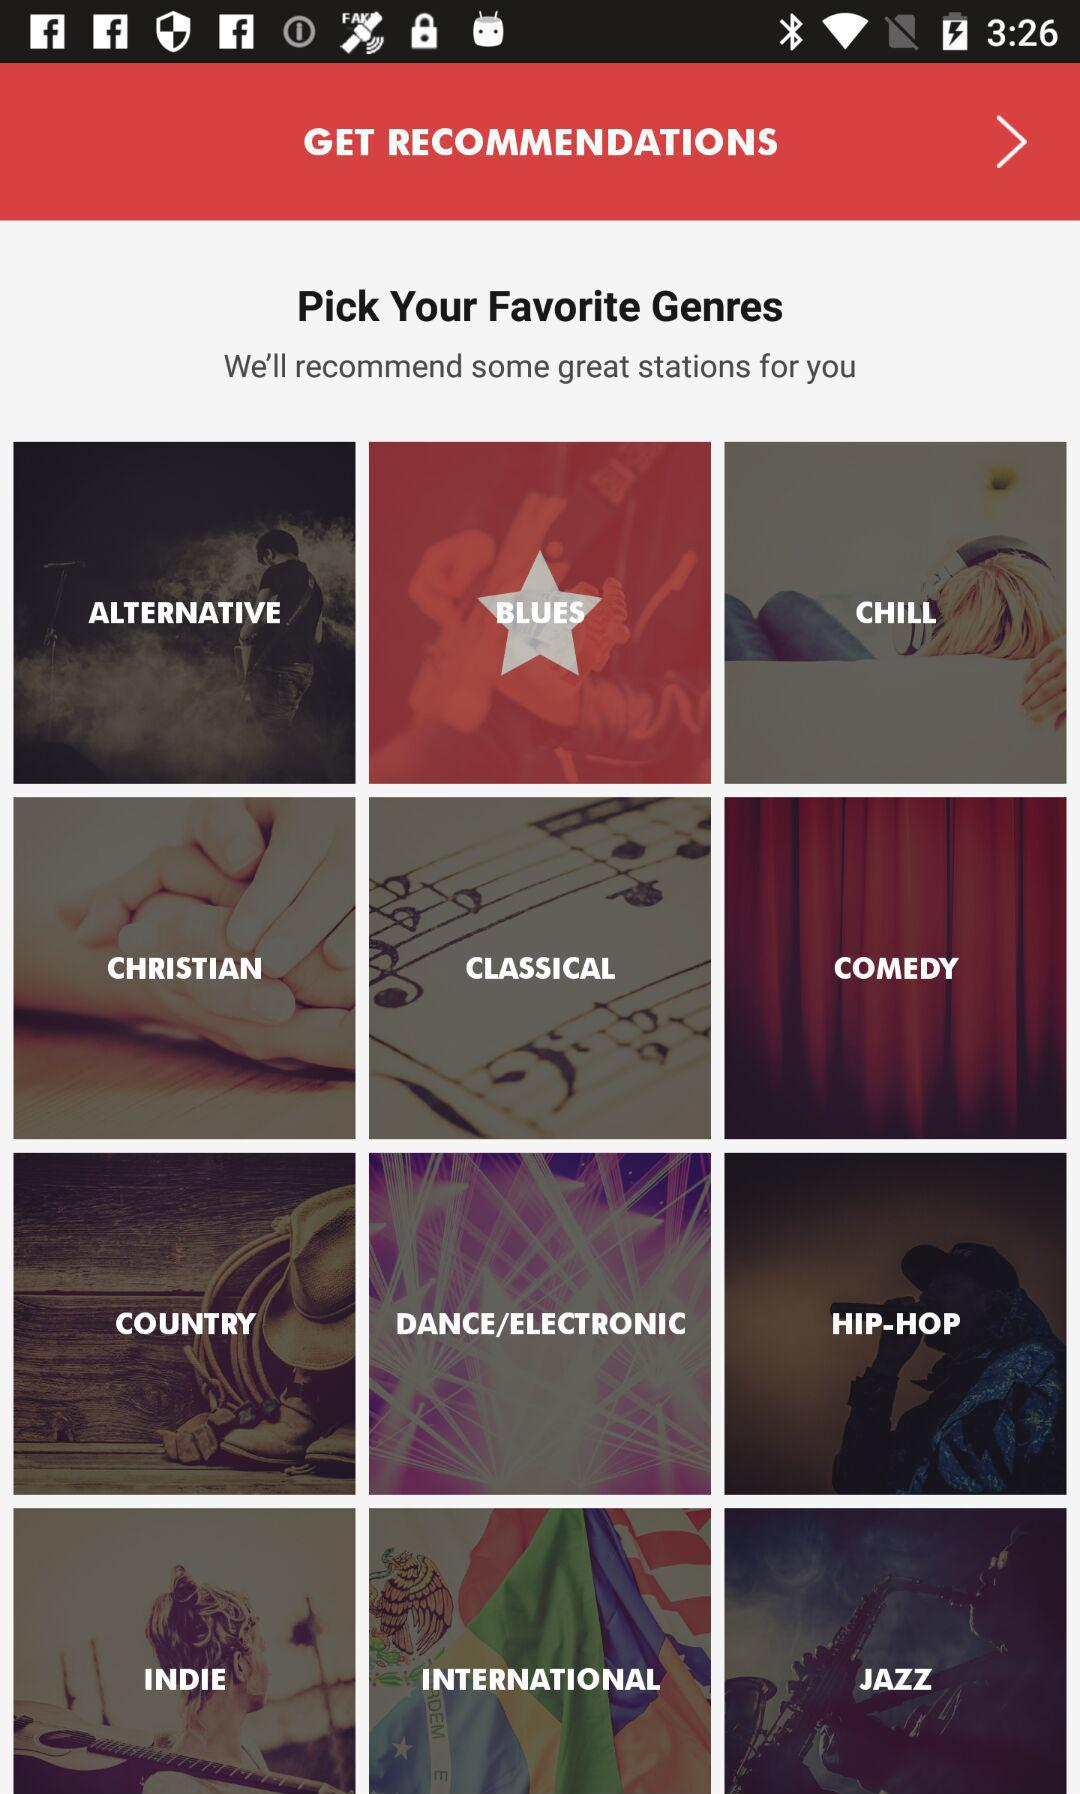Icon: (994, 114, 1029, 170)
Image: (14, 442, 357, 786), (724, 442, 1067, 784), (369, 442, 711, 786), (14, 1153, 356, 1495), (725, 797, 1067, 1139), (725, 1155, 1067, 1495), (370, 1153, 711, 1495), (14, 798, 356, 1139), (370, 798, 711, 1139), (725, 1508, 1067, 1794), (14, 1508, 356, 1794), (370, 1508, 711, 1794)
Text: (224, 352, 857, 386), (299, 290, 784, 324), (304, 127, 779, 159), (396, 1311, 687, 1339), (421, 1667, 662, 1691), (88, 601, 282, 625), (108, 956, 263, 982), (465, 956, 618, 982), (115, 1311, 259, 1337), (831, 1311, 962, 1337), (833, 956, 961, 982), (855, 600, 937, 627), (496, 601, 585, 625), (143, 1667, 227, 1691), (858, 1667, 933, 1691)
Toolbar: (1, 64, 1080, 222)
UpperTaskBar: (1, 1, 1080, 64)
